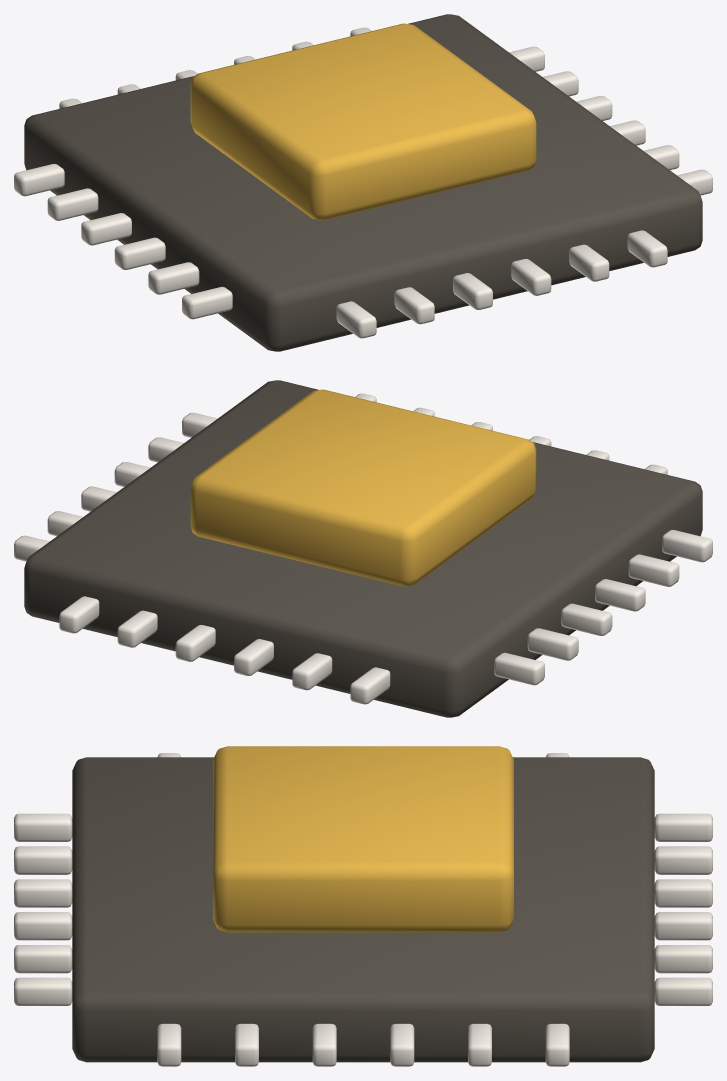
Rendered from tecnologia.glb.
3 renders of one model, top to bottom at view 1: azimuth 30°, elevation 25°; view 2: azimuth 150°, elevation 25°; view 3: azimuth 270°, elevation 25°, orthographic. The views are drawn at different scales.
Parts seen in each view (by area): view 1: Placa, Nucleo, Pinos; view 2: Placa, Nucleo, Pinos; view 3: Placa, Nucleo, Pinos.
Part boxes in pixels (<box>): Placa: <box>24,14,702,351</box>; Nucleo: <box>190,23,536,220</box>; Pinos: <box>14,27,712,338</box>; Placa: <box>24,380,702,717</box>; Nucleo: <box>190,389,536,586</box>; Pinos: <box>14,393,712,704</box>; Placa: <box>72,757,654,1062</box>; Nucleo: <box>213,746,513,932</box>; Pinos: <box>14,753,712,1066</box>.
Size of the model in its own units: 1 by 0.2222 by 1.
